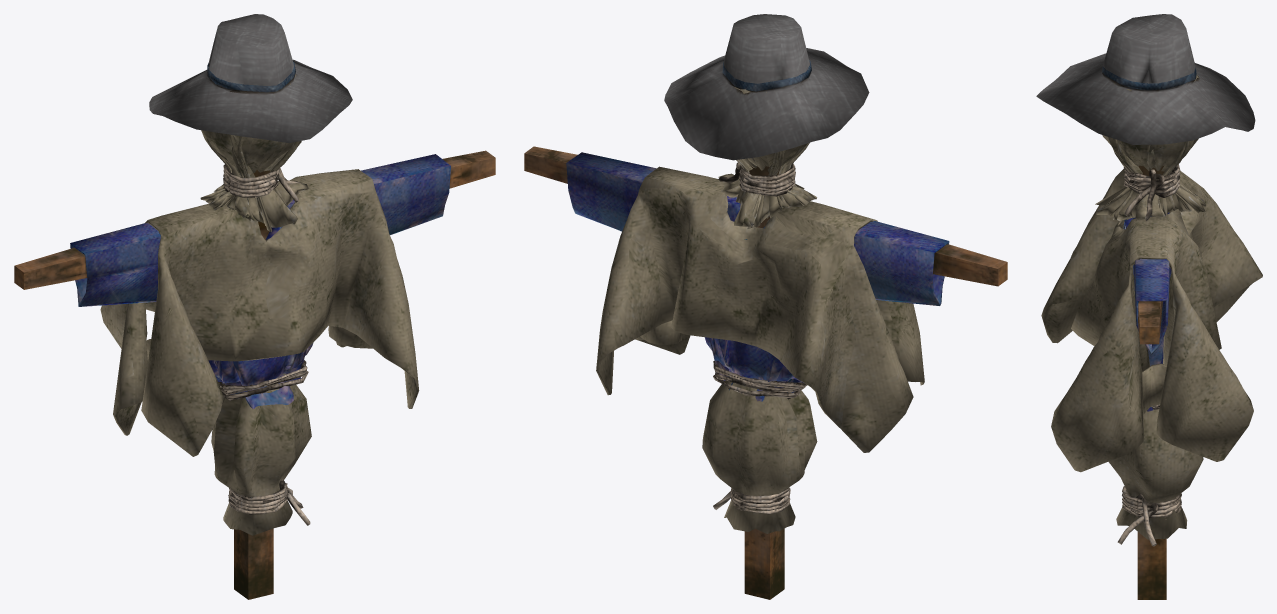
Rendered from scarebody.obj.
3 renders of one model, left to right at view 1: azimuth 30°, elevation 25°; view 2: azimuth 150°, elevation 25°; view 3: azimuth 270°, elevation 25°, orthographic.
Visible parts, largest first — view 1: Plane.005; view 2: Plane.005; view 3: Plane.005.
Boxes of the visible parts, x1=… form: Plane.005: x1=14, y1=14, x2=495, y2=599; Plane.005: x1=524, y1=14, x2=1007, y2=599; Plane.005: x1=1036, y1=14, x2=1262, y2=599.
Bounding box in the file's own units: 78.27 × 89.57 × 32.5.
